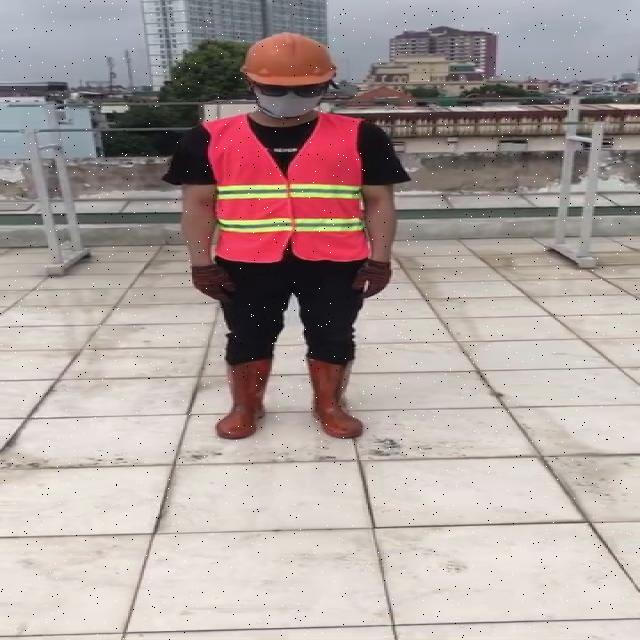Hard_hat: (237, 29, 343, 92)
Vest: (209, 113, 370, 264)
